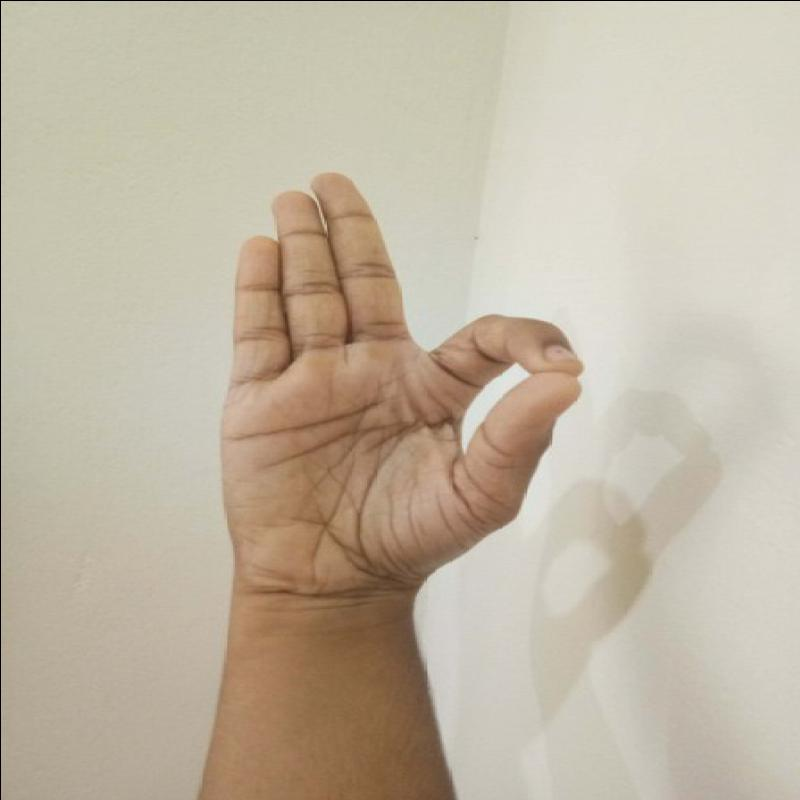Mudraakhyam: (192, 156, 595, 617)
